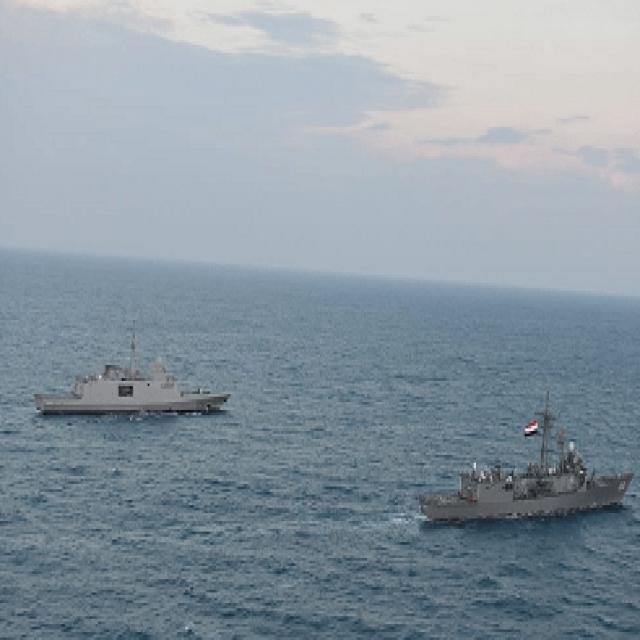navalvessels: (416, 389, 640, 526), (29, 332, 230, 429)
